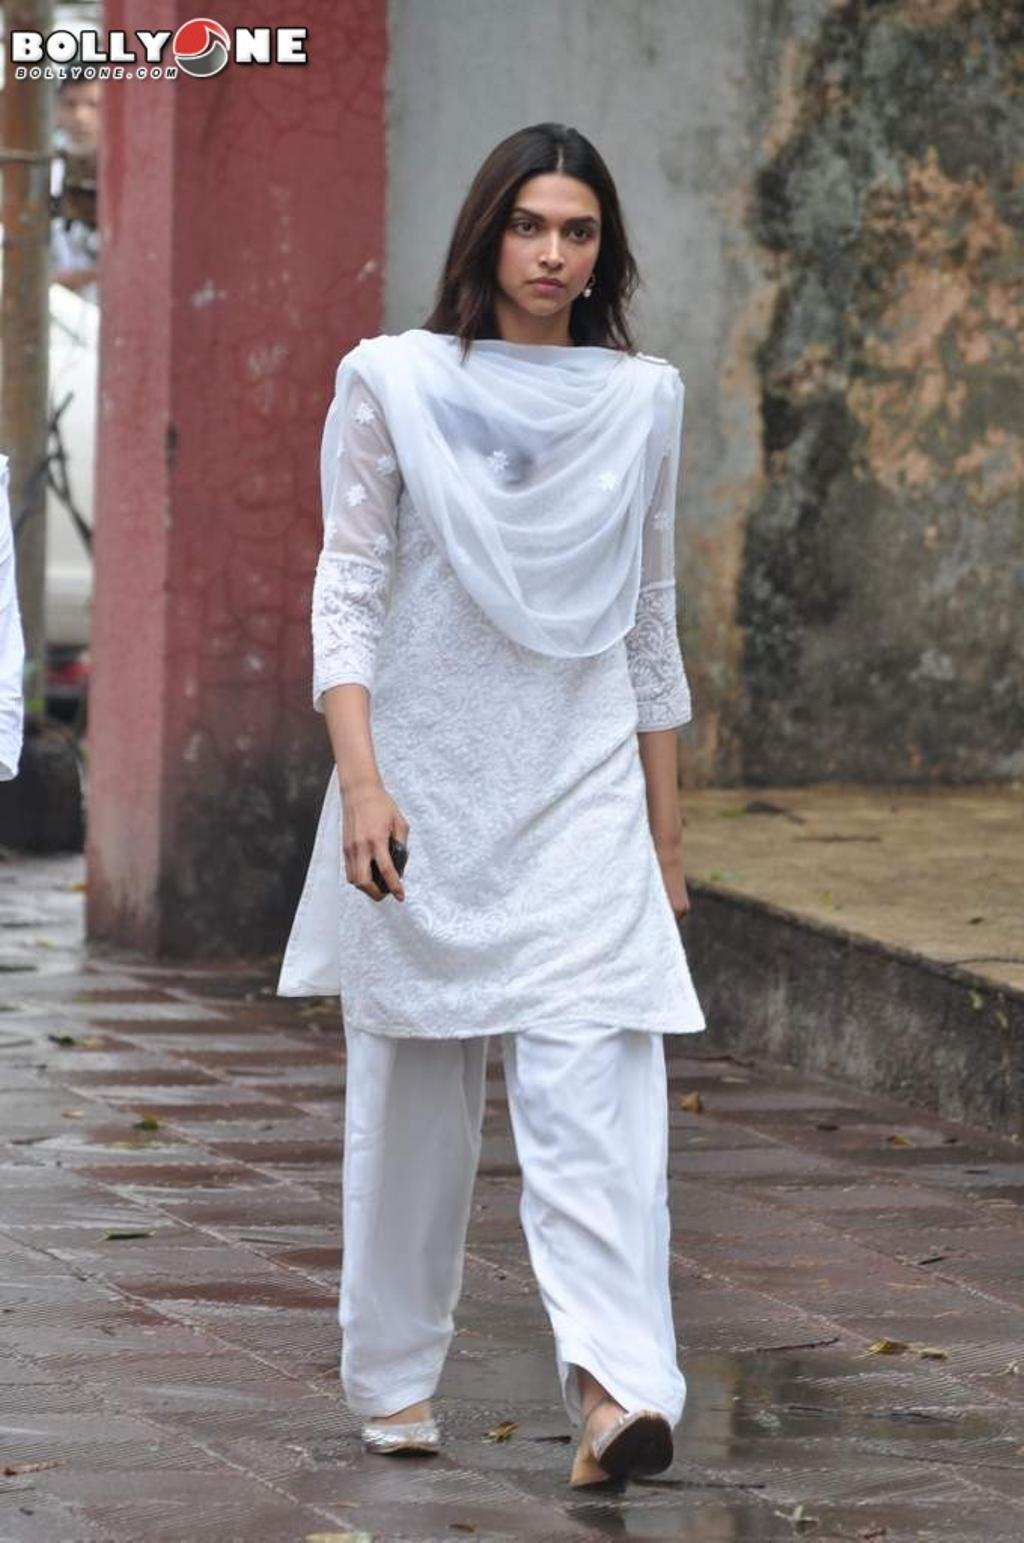face: (498, 185, 597, 318)
